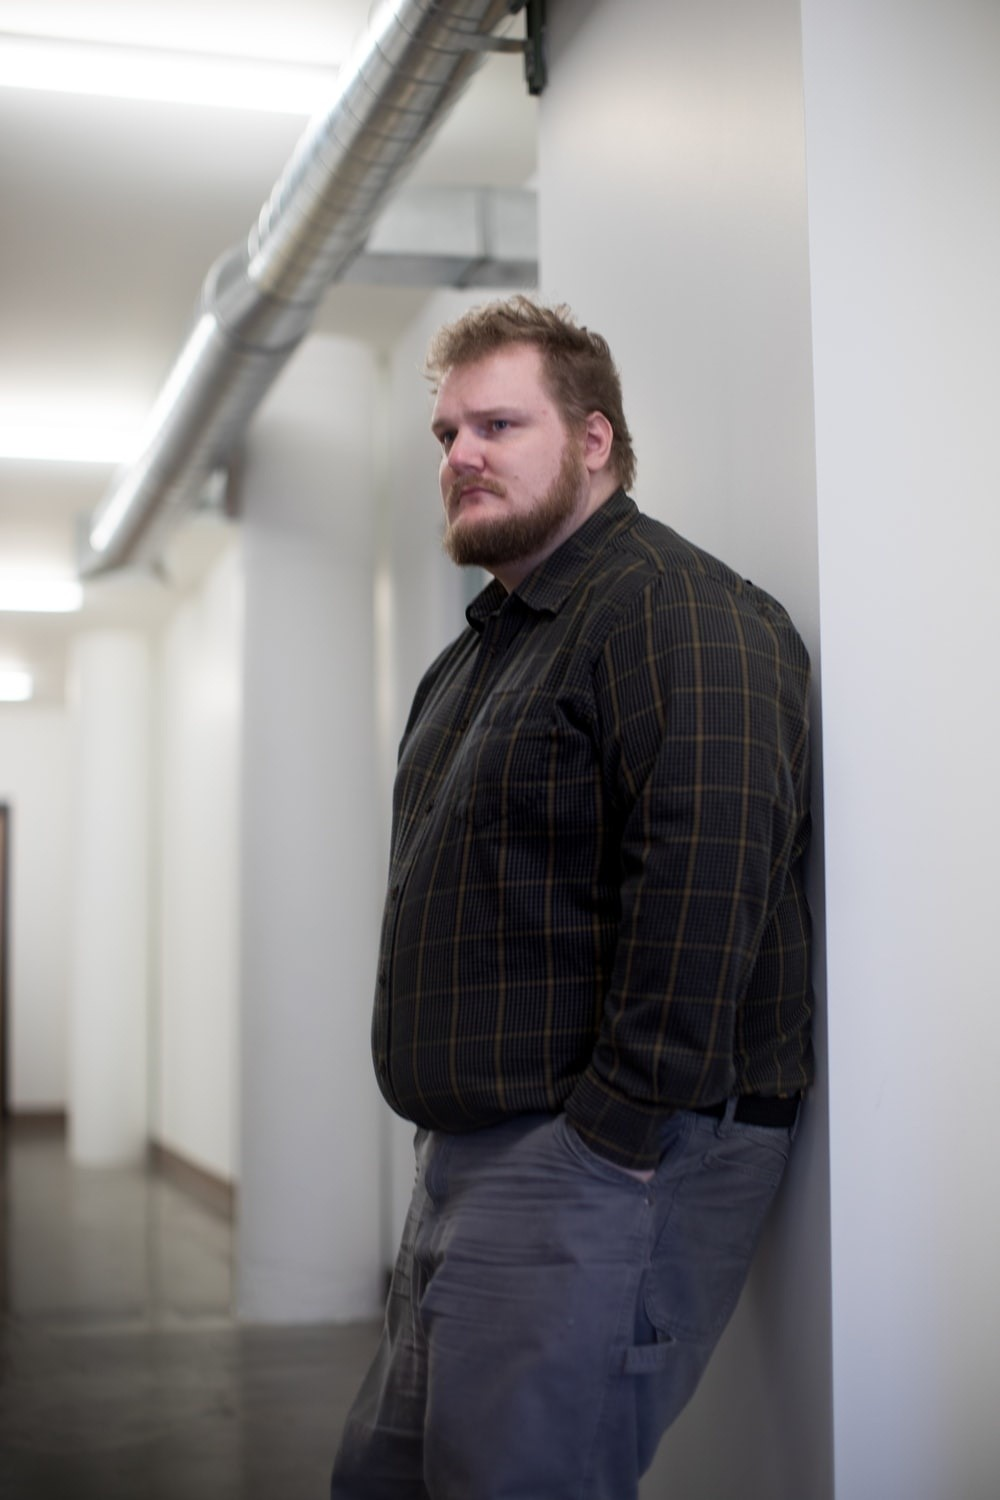face_no_mask: (431, 306, 629, 569)
